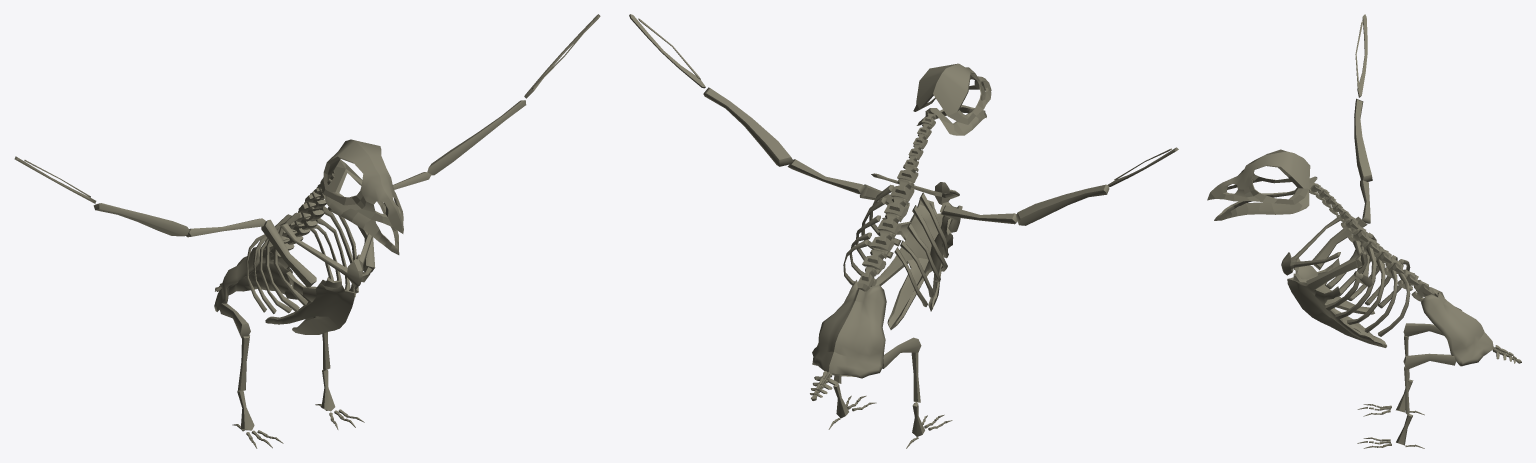
The model's file is Skeleton.fbx.
3 renders of one model, left to right at view 1: azimuth 30°, elevation 25°; view 2: azimuth 150°, elevation 25°; view 3: azimuth 270°, elevation 25°, orthographic. The views are drawn at different scales.
Visible parts, largest first — view 1: pPlane7, pPlane13, pCube120, Jaw, pCube159, pCube80, pCube68, pCube92; view 2: pCube120, pPlane13, pPlane7, pCube159, pCube68, Jaw, pCube135, pCube136, pCube80; view 3: pPlane7, pPlane13, pCube120, Jaw, pCube156 (×2), pCube68, pCube80, pCube82, pCube92, pCube139, pCube140, pCube70 (+4 smaller).
Boxes of the visible parts, x1,y1,x2,y2 form: pPlane7: [320, 139, 403, 233]; pPlane13: [265, 254, 371, 334]; pCube120: [214, 245, 292, 311]; Jaw: [323, 159, 399, 254]; pCube159: [427, 100, 526, 175]; pCube80: [279, 221, 375, 287]; pCube68: [93, 203, 189, 236]; pCube92: [261, 219, 316, 287]; pCube120: [812, 280, 886, 378]; pPlane13: [875, 199, 962, 329]; pPlane7: [913, 63, 991, 124]; pCube159: [703, 87, 793, 166]; pCube68: [1016, 184, 1109, 225]; Jaw: [916, 105, 986, 135]; pCube135: [787, 159, 866, 194]; pCube136: [941, 205, 1016, 224]; pCube80: [871, 173, 959, 204]; pPlane7: [1207, 149, 1310, 204]; pPlane13: [1287, 258, 1386, 347]; pCube120: [1421, 287, 1493, 366]; Jaw: [1214, 176, 1317, 220]; pCube156 (×2): [1403, 323, 1455, 369]; pCube68: [1354, 98, 1372, 181]; pCube80: [1281, 218, 1340, 275]; pCube82: [1306, 254, 1362, 290]; pCube92: [1312, 216, 1367, 270]; pCube139: [1335, 247, 1376, 319]; pCube140: [1347, 259, 1385, 324]; pCube70: [1357, 14, 1367, 97].
Bounding box in the file's own units: 7.88 × 4.59 × 4.39.
